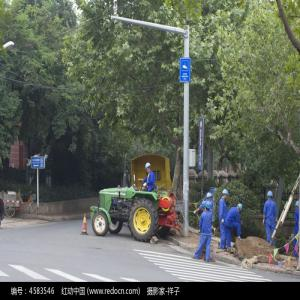blue: (222, 189, 229, 200), (267, 191, 274, 201), (207, 192, 214, 202), (205, 202, 212, 212), (146, 163, 152, 173), (238, 204, 243, 213), (295, 201, 299, 212), (202, 202, 206, 212)
